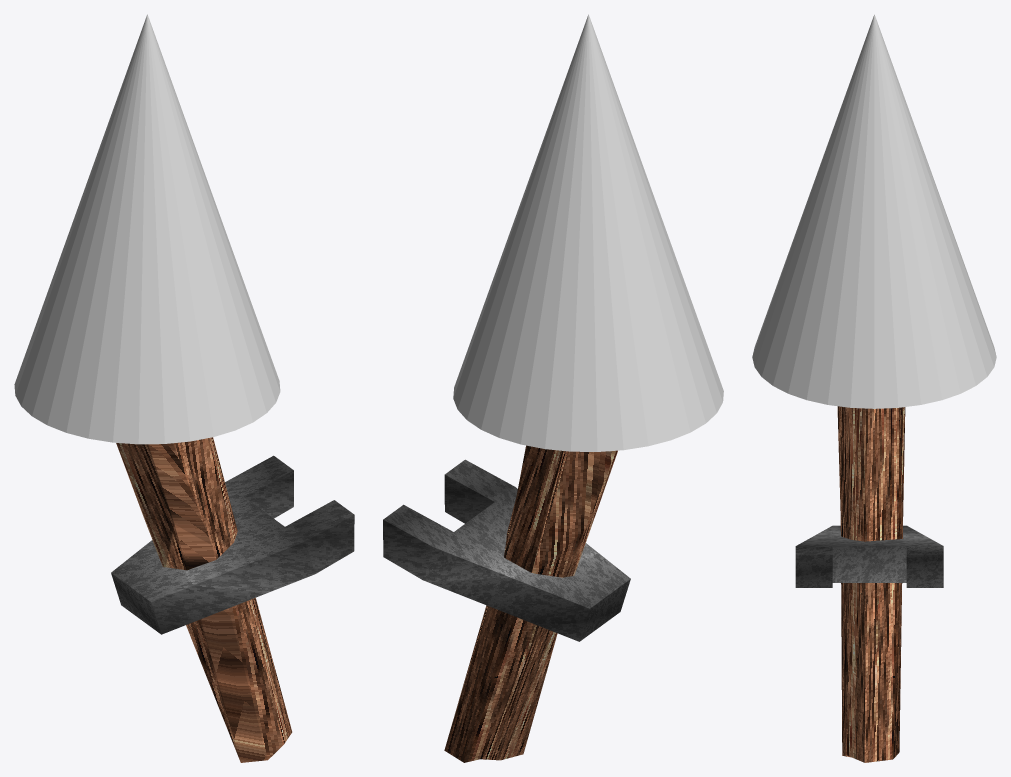
Rendered from torch.glb.
3 views of the same model, side by side, from view 1: azimuth 30°, elevation 25°; view 2: azimuth 150°, elevation 25°; view 3: azimuth 270°, elevation 25° (orthographic). The views are drawn at different scales.
Parts seen in each view (by area): view 1: Cone, Cube.001, Cube; view 2: Cone, Cube.001, Cube; view 3: Cone, Cube.001, Cube.
Part boxes in pixels (x1=…): Cone: x1=14, y1=14, x2=280, y2=444; Cube.001: x1=116, y1=437, x2=292, y2=762; Cube: x1=111, y1=455, x2=354, y2=634; Cone: x1=453, y1=14, x2=723, y2=451; Cube.001: x1=444, y1=445, x2=617, y2=762; Cube: x1=383, y1=459, x2=630, y2=641; Cone: x1=752, y1=14, x2=996, y2=408; Cube.001: x1=837, y1=406, x2=905, y2=762; Cube: x1=795, y1=525, x2=943, y2=587.
Size of the model in its own units: 0.5695 by 1.48 by 0.4702.
2 materials, 2 textured.
